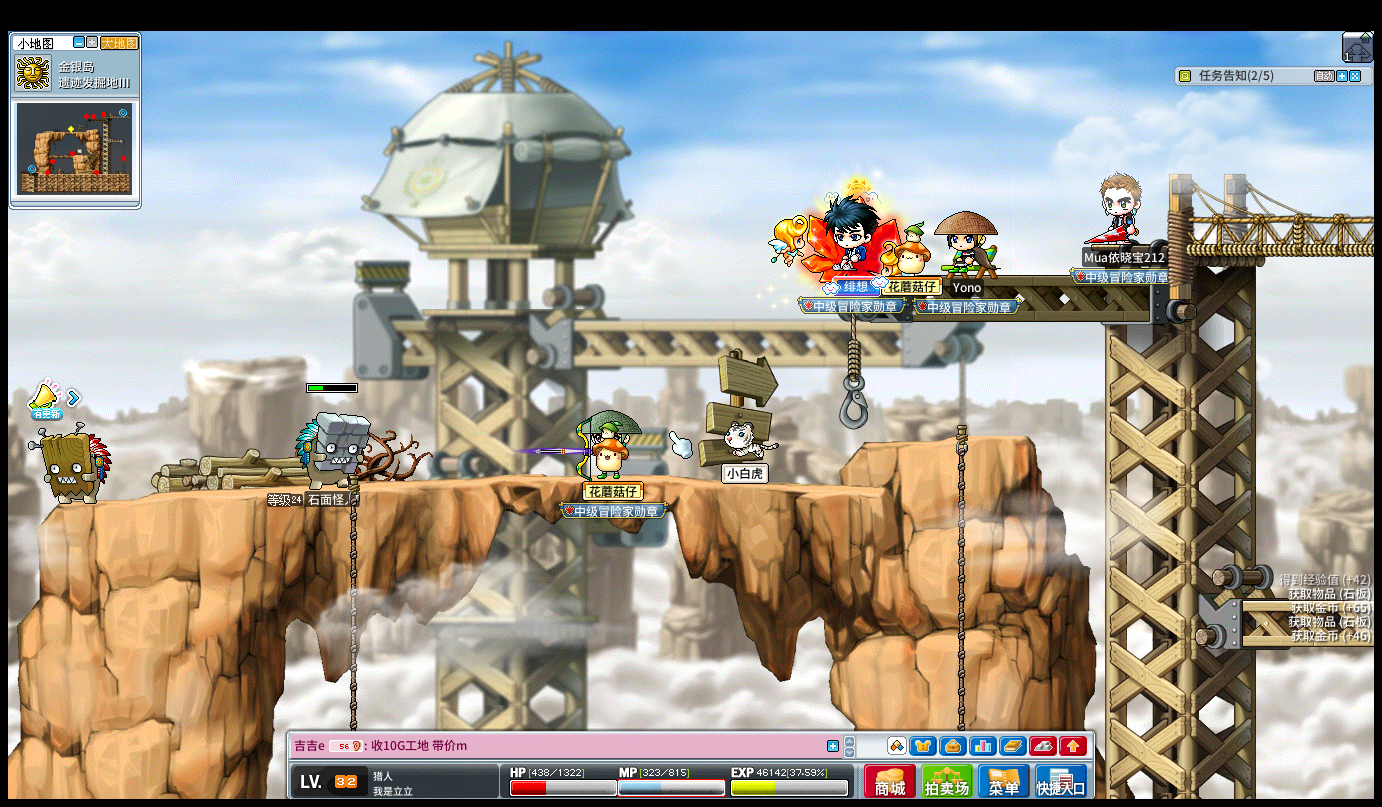floor: (61, 471, 908, 500), (77, 471, 912, 491), (860, 433, 1033, 448), (862, 437, 1038, 450), (1238, 597, 1367, 612)
monster: (31, 423, 112, 503), (295, 411, 368, 486)
rope: (952, 424, 968, 732), (347, 474, 358, 720), (954, 630, 967, 728)
